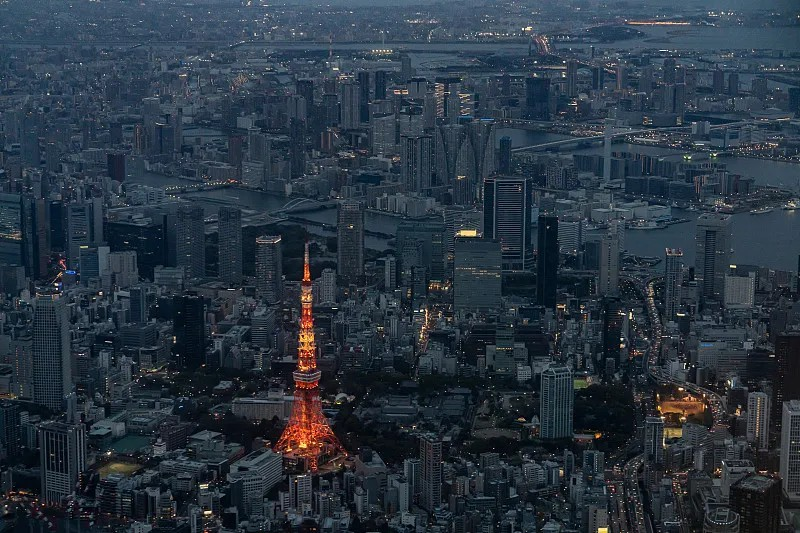Tokyo: (273, 236, 348, 474)
